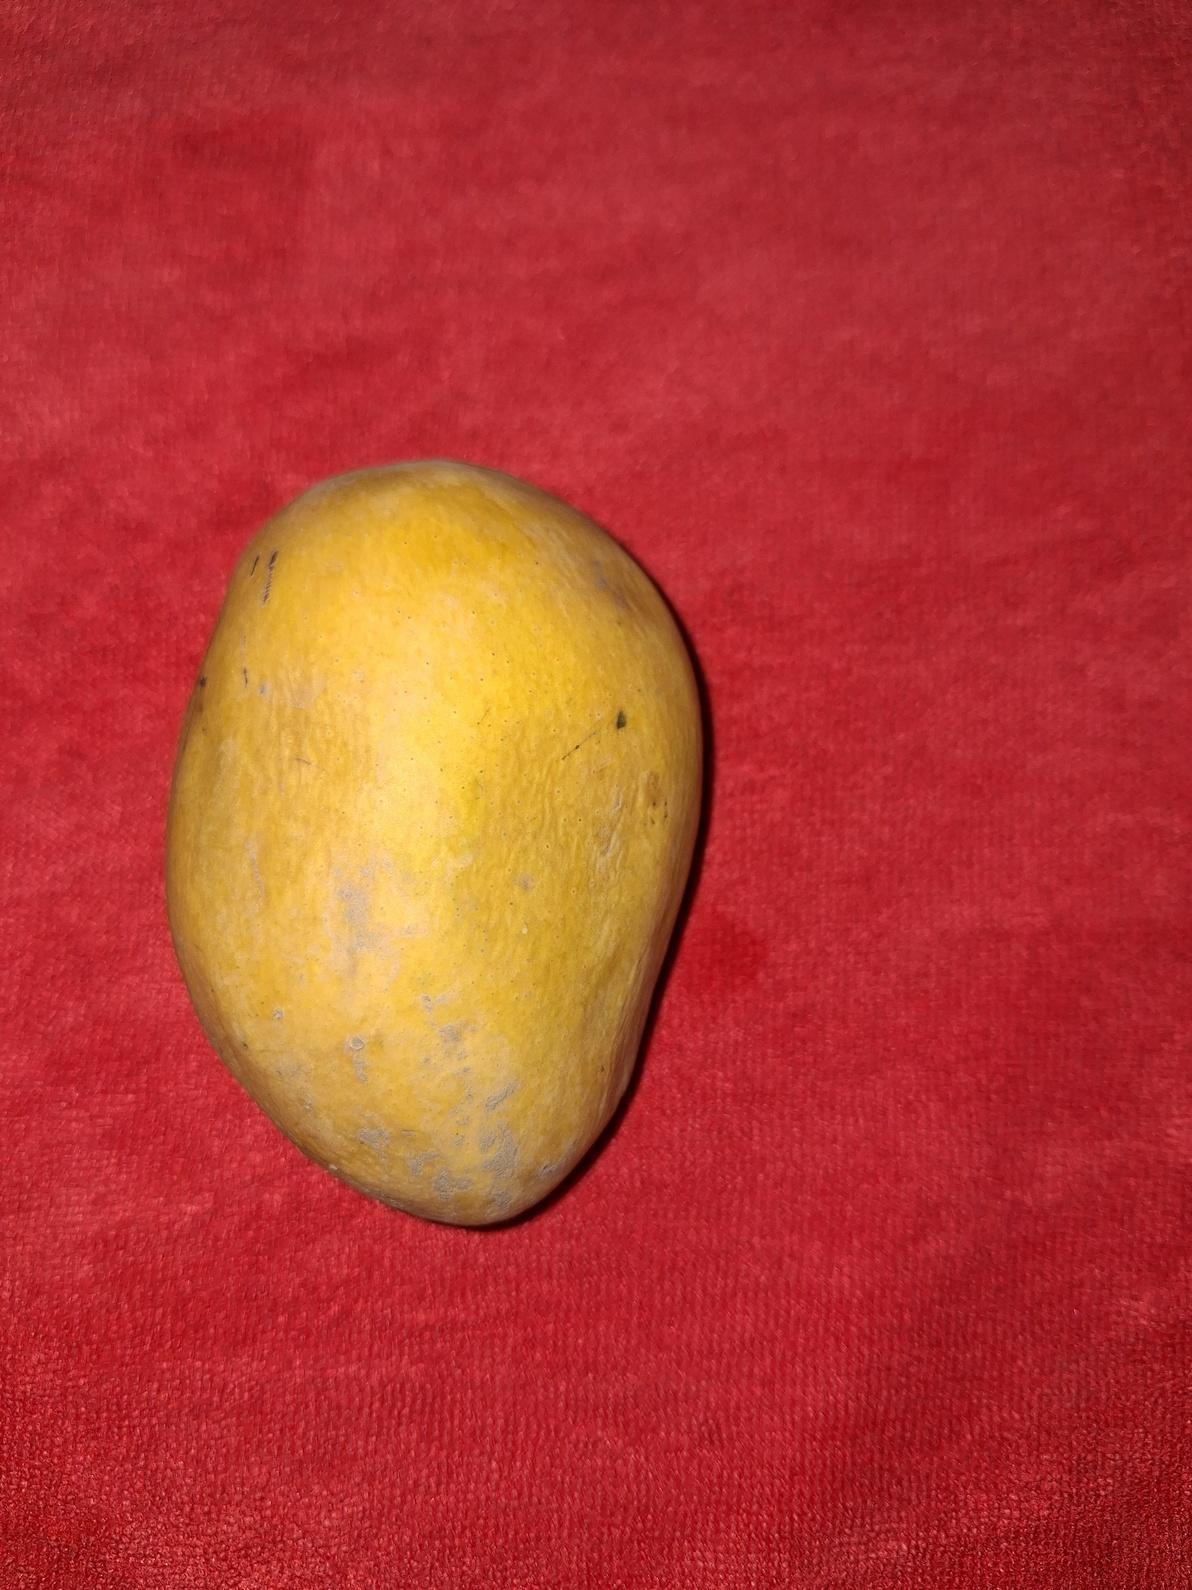mango: (162, 456, 705, 1227)
